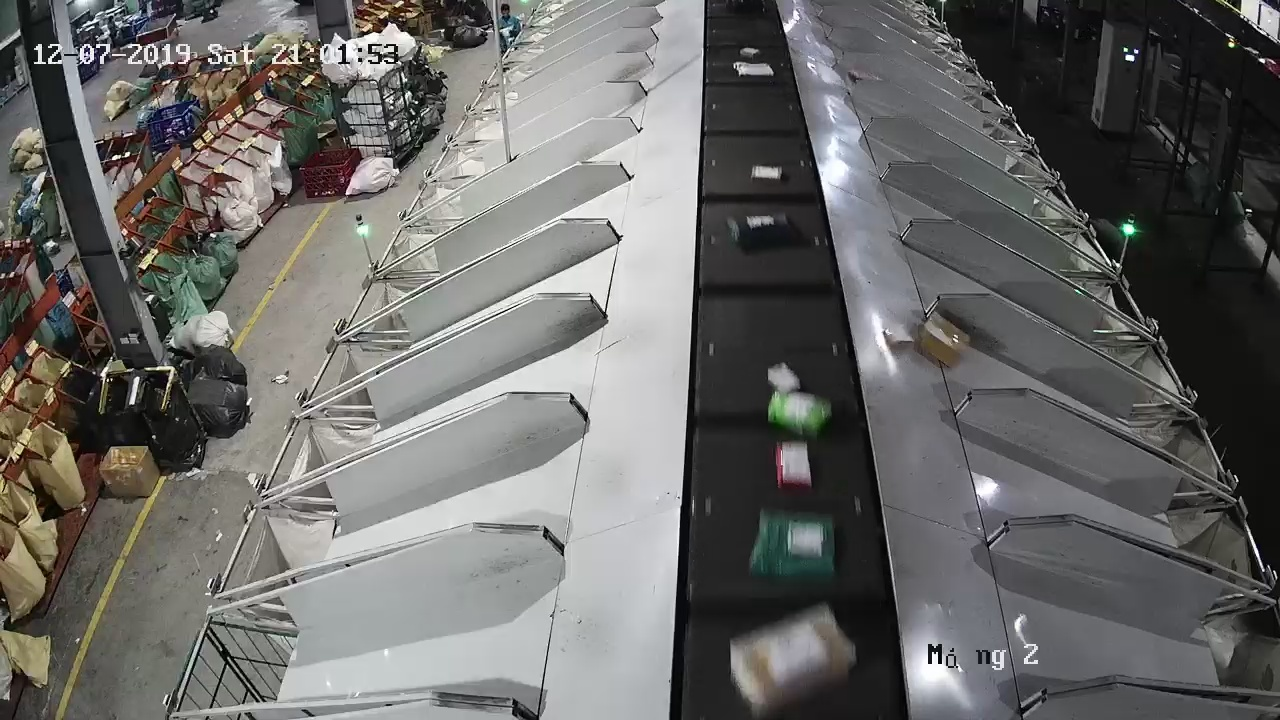parcel: (918, 310, 972, 370), (883, 323, 915, 347)
